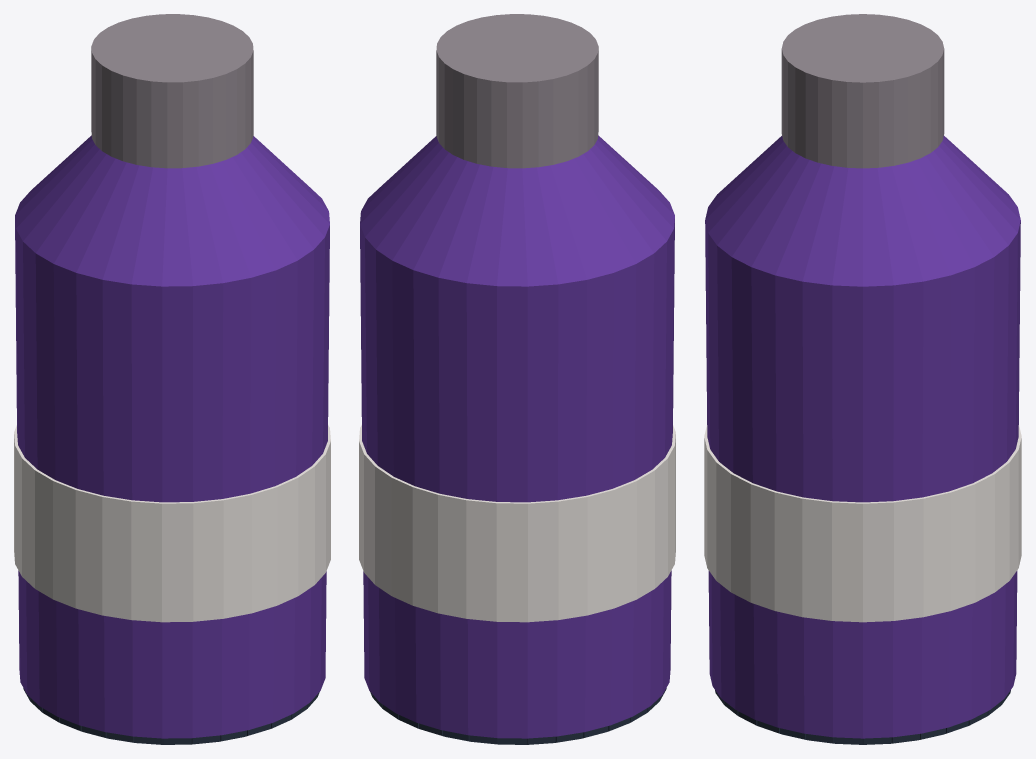
The model's file is bottle.glb.
The picture shows the model from 3 angles, left to right: view 1: azimuth 30°, elevation 25°; view 2: azimuth 150°, elevation 25°; view 3: azimuth 270°, elevation 25°; orthographic projection.
Visible parts, largest first — view 1: bottle body, grip band, shoulder, bottle cap; view 2: bottle body, grip band, shoulder, bottle cap; view 3: bottle body, grip band, shoulder, bottle cap.
Boxes of the visible parts, x1=… form: bottle body: x1=15, y1=219, x2=329, y2=738; grip band: x1=14, y1=425, x2=330, y2=622; shoulder: x1=15, y1=135, x2=329, y2=286; bottle cap: x1=91, y1=14, x2=253, y2=168; bottle body: x1=360, y1=219, x2=674, y2=738; grip band: x1=359, y1=425, x2=675, y2=622; shoulder: x1=360, y1=135, x2=674, y2=286; bottle cap: x1=436, y1=14, x2=598, y2=168; bottle body: x1=705, y1=220, x2=1020, y2=738; grip band: x1=704, y1=425, x2=1021, y2=622; shoulder: x1=705, y1=136, x2=1020, y2=286; bottle cap: x1=781, y1=14, x2=944, y2=168.
Bounding box in the file's own units: 0.704 × 1.55 × 0.704.
